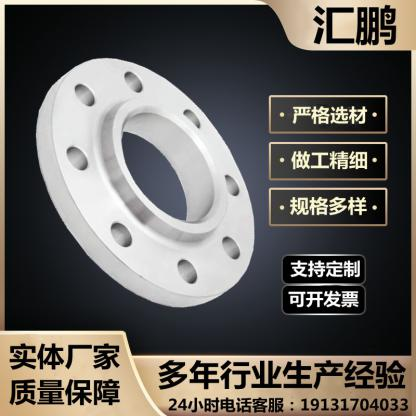FOD: (32, 51, 257, 312)
